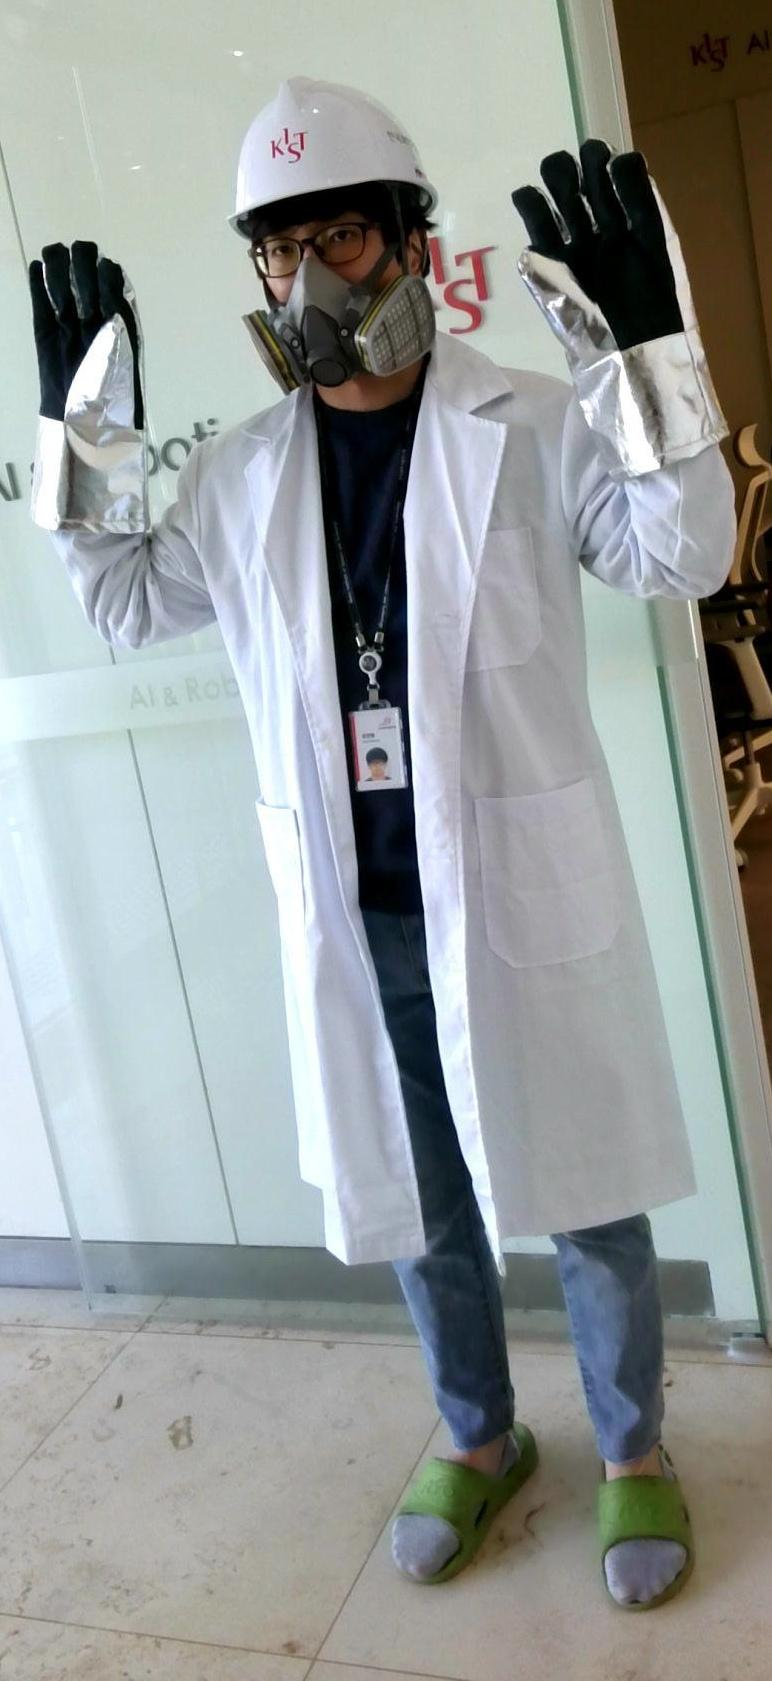lab_coat: (211, 401, 581, 1264)
